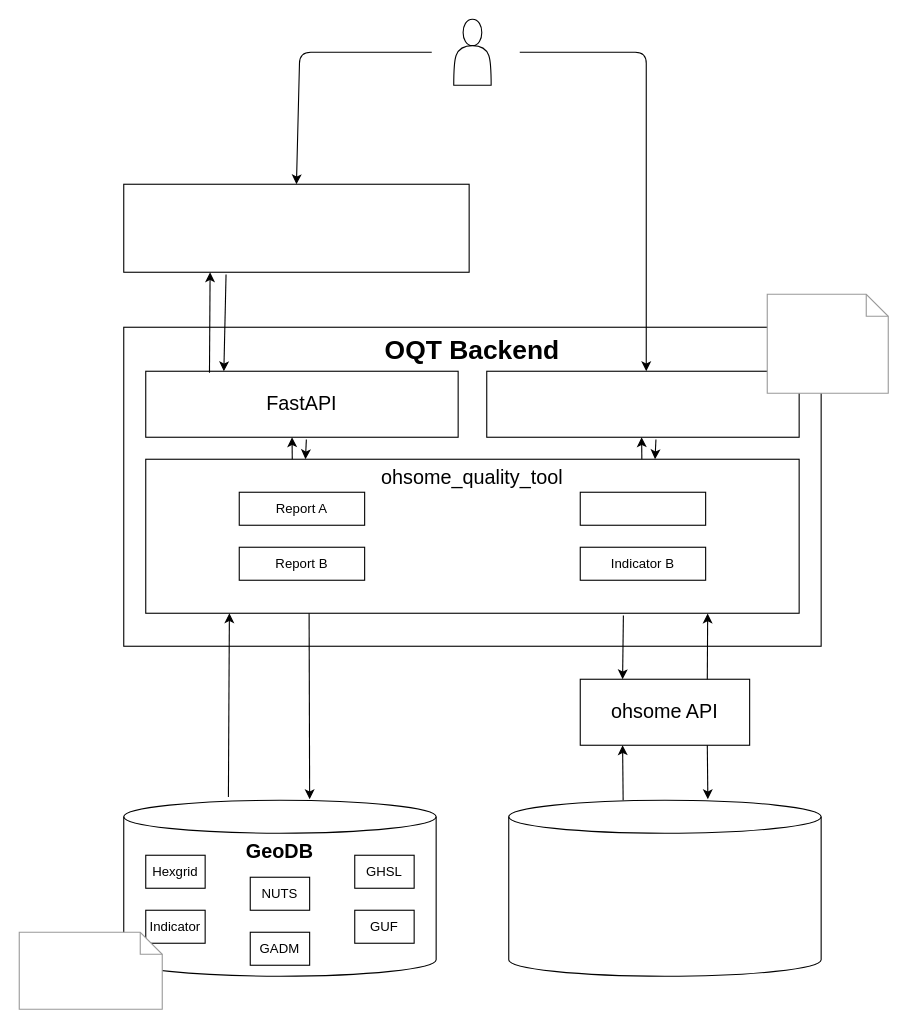
Image size: 908x1029. Some labels were removed from this diagram. Each missing label, with the centre of its shape:
- Indicator A buildings - Indicator A roads - Indicator A ... - Indicator B ...: [90,970]
CLI: [642,403]
CLI triggert calculation of the indicatoren and creation of the reports: [827,343]
Indicator A: [642,508]
OQT Client / Website: [296,227]
OSHDB: [664,887]
